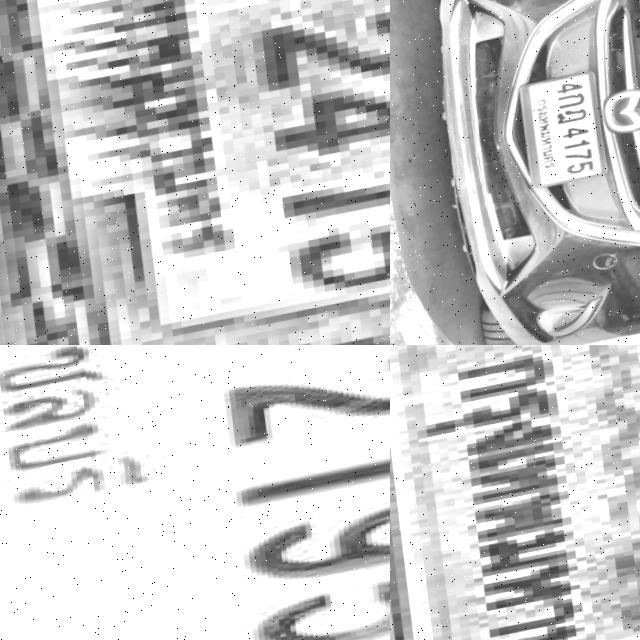license-plate: (0, 0, 390, 345), (0, 345, 390, 640), (390, 345, 640, 640), (519, 69, 618, 194)
